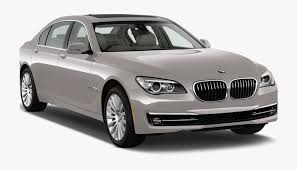bmw: (11, 10, 281, 150)
